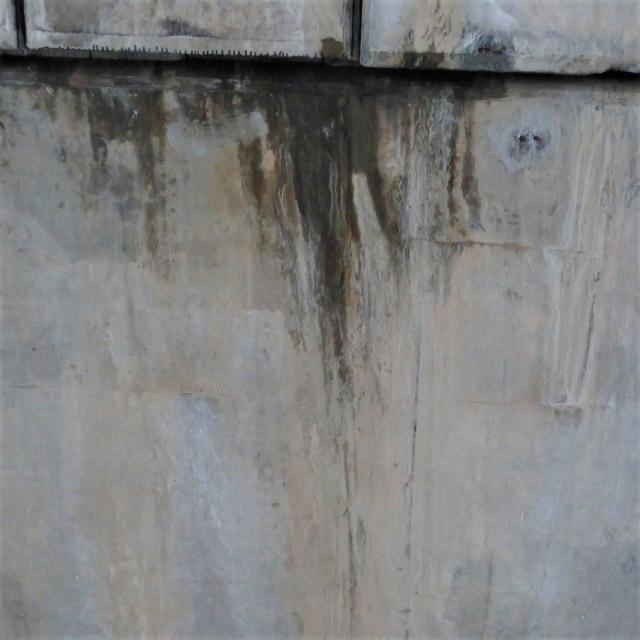Rebar: (461, 29, 516, 69), (506, 124, 552, 160)
